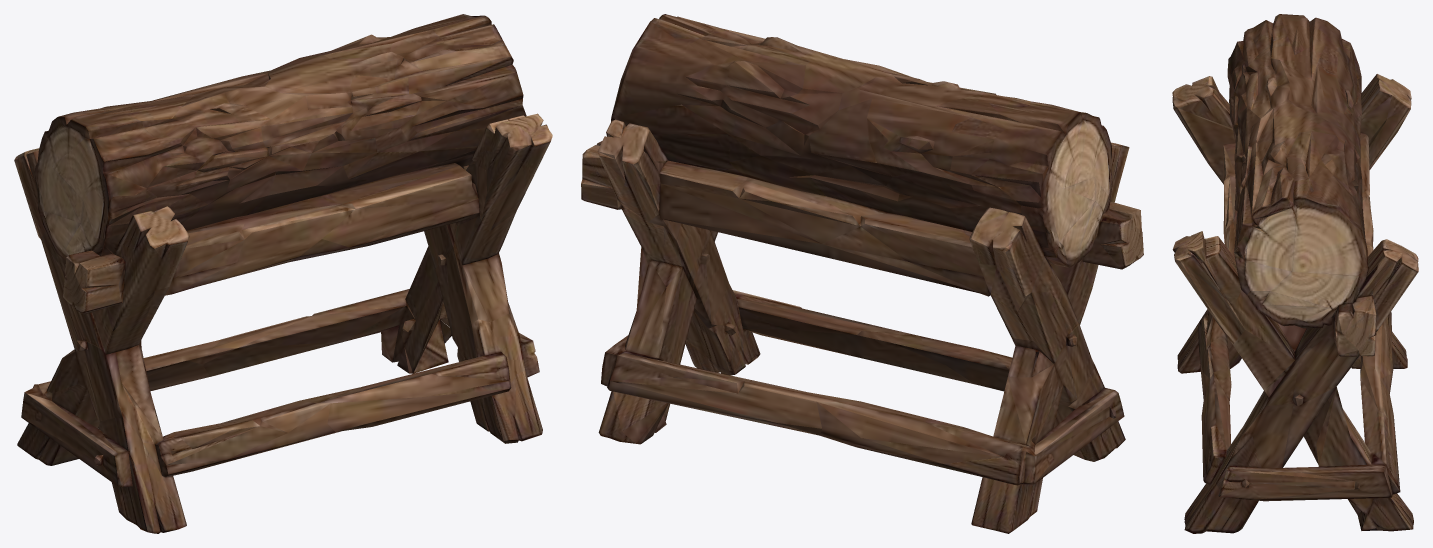
File: sawhorse_3d.glb
3 renders of one model, left to right at view 1: azimuth 30°, elevation 25°; view 2: azimuth 150°, elevation 25°; view 3: azimuth 270°, elevation 25°, orthographic. The views are drawn at different scales.
Visible parts, largest first — view 1: Mesh_0; view 2: Mesh_0; view 3: Mesh_0.
Boxes of the visible parts, x1=… form: Mesh_0: x1=14, y1=14, x2=552, y2=533; Mesh_0: x1=581, y1=14, x2=1143, y2=533; Mesh_0: x1=1172, y1=14, x2=1418, y2=533.
Size of the model in its own units: 0.9292 by 0.6875 by 0.4512.
1 material, 1 textured.
